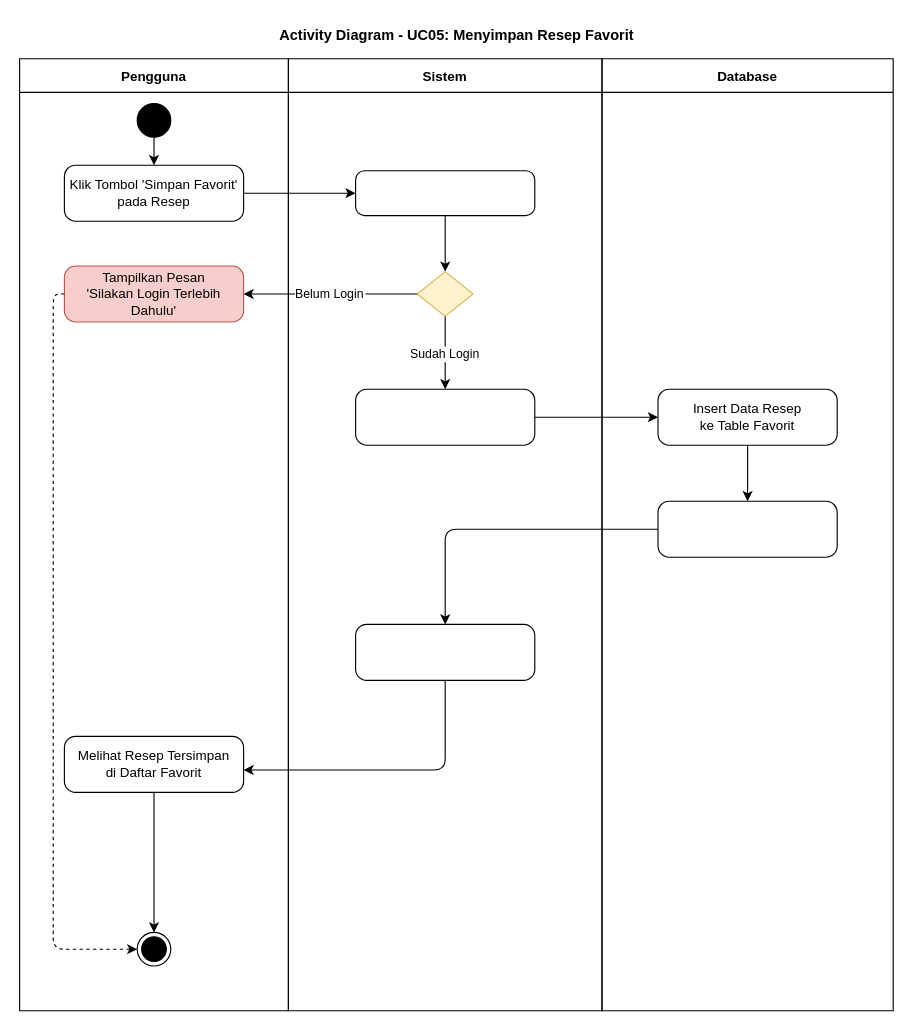
Image size: 913x1030. Some labels were removed from this diagram. The shapes that lost their labels are listed below. From the top down, each one's centre as x and y in pixels, then its label:
the point at 444,193: Cek Status Login User
the point at 444,416: Kirim Perintah Simpan Resep Favorit
the point at 747,528: Kembalikan Status Berhasil Simpan
the point at 444,651: Ubah Ikon Favorit & Tampilkan Notifikasi Sukses
